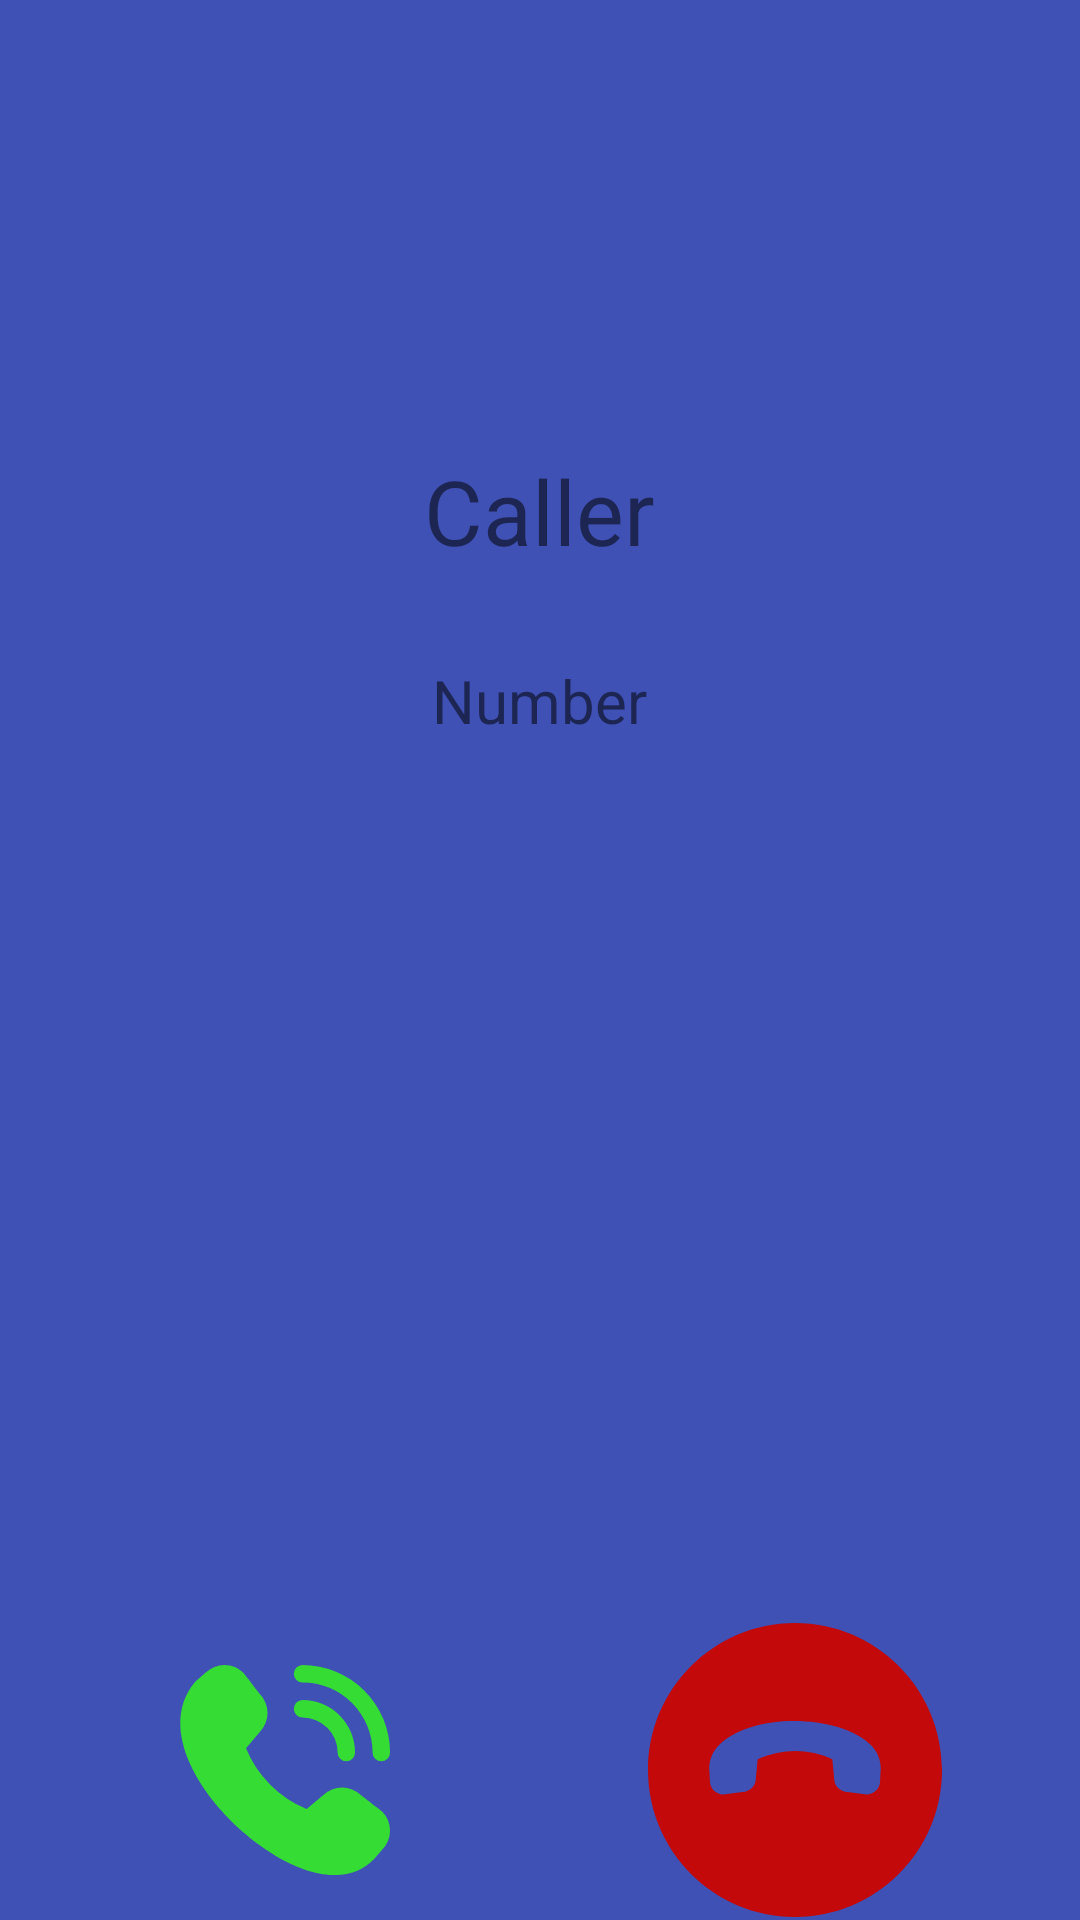

Screen size 1080px×1920px. Icon name, then its center in pixels as point (x, y):
Accept: point (285, 1770)
decline: point (795, 1770)
